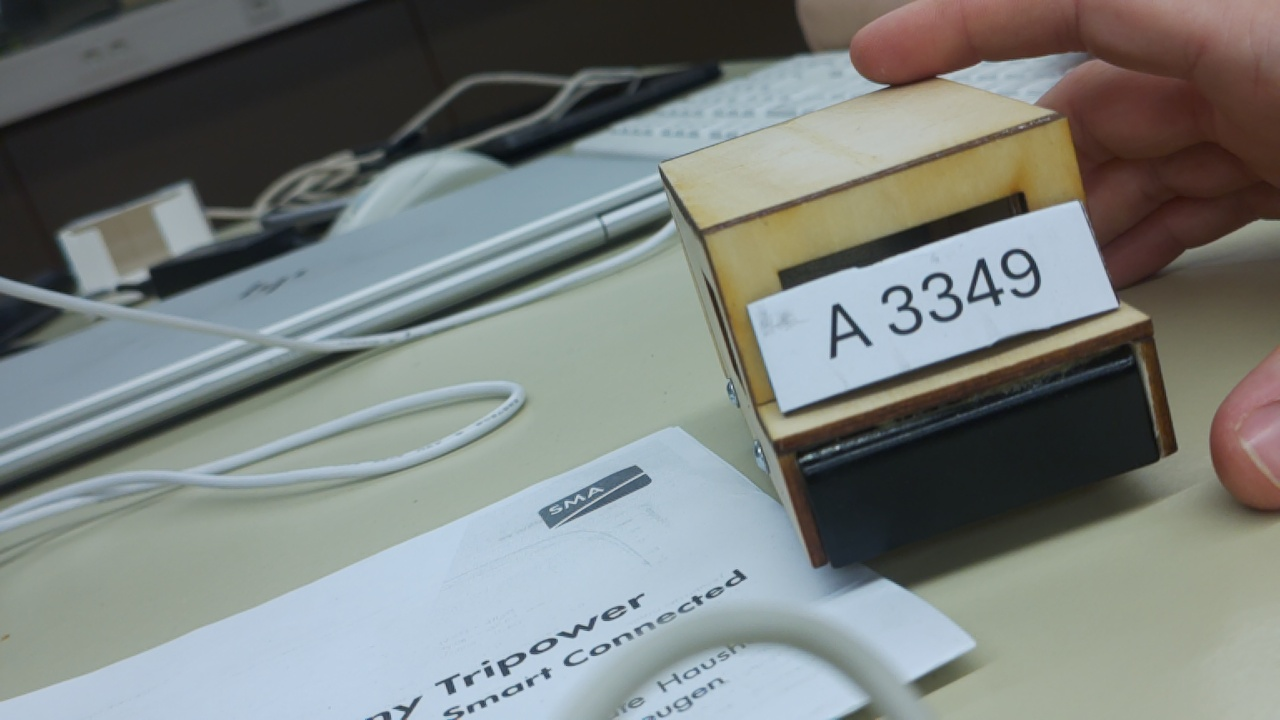license_plate: (734, 191, 1177, 426)
